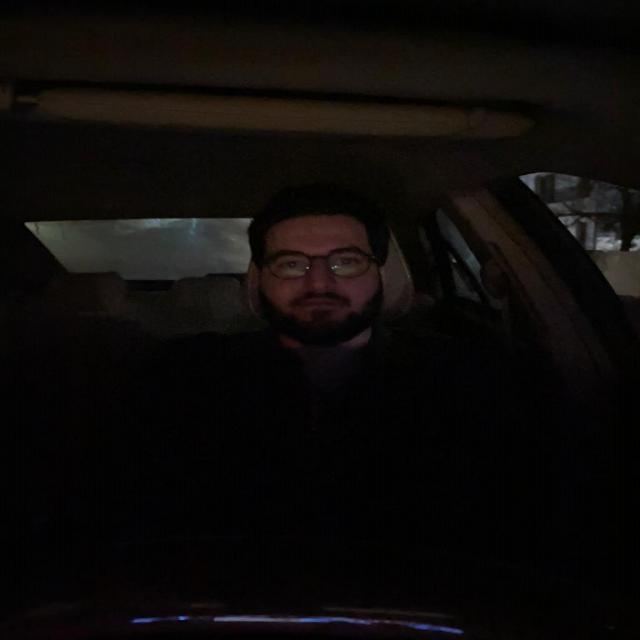person: (237, 183, 408, 356)
